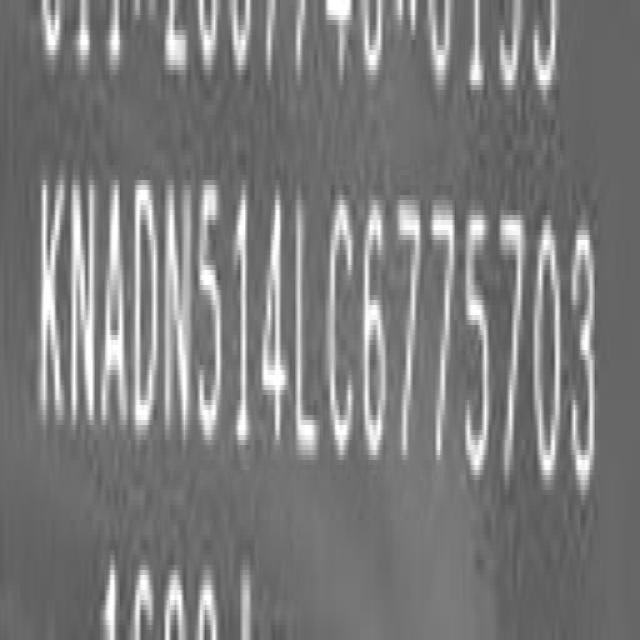0: (533, 216, 564, 498)
1: (230, 175, 253, 465)
3: (573, 220, 600, 502)
4: (261, 188, 291, 470)
5: (462, 197, 491, 492), (200, 170, 225, 458)
6: (362, 192, 391, 473)
7: (429, 192, 458, 487), (500, 202, 529, 496), (398, 195, 425, 478)
A: (101, 166, 130, 440)
C: (326, 194, 356, 472)
D: (132, 172, 161, 444)
K: (39, 176, 70, 433)
L: (296, 192, 322, 472)
N: (163, 172, 195, 451), (68, 167, 99, 440)
